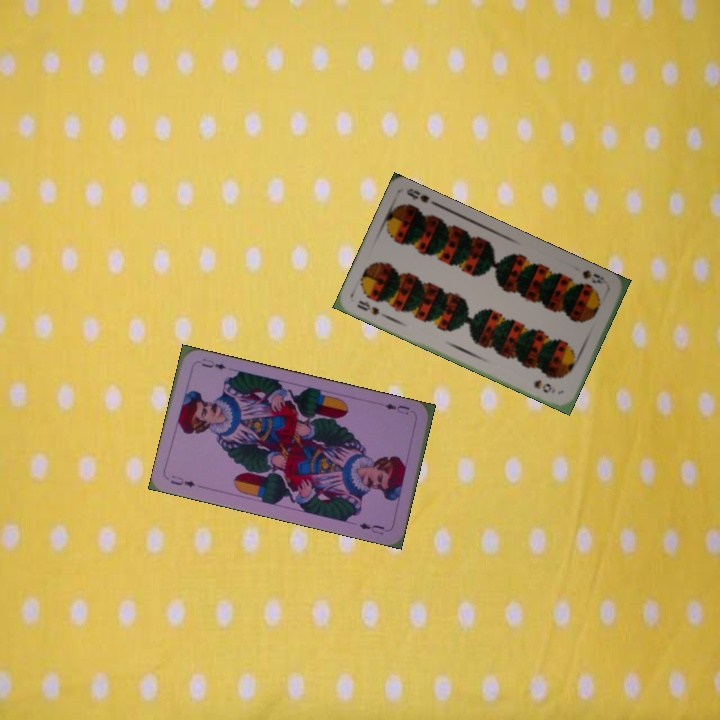EU: (166, 471, 198, 490), (381, 399, 412, 417)
S8: (353, 296, 390, 320), (578, 265, 609, 287)
